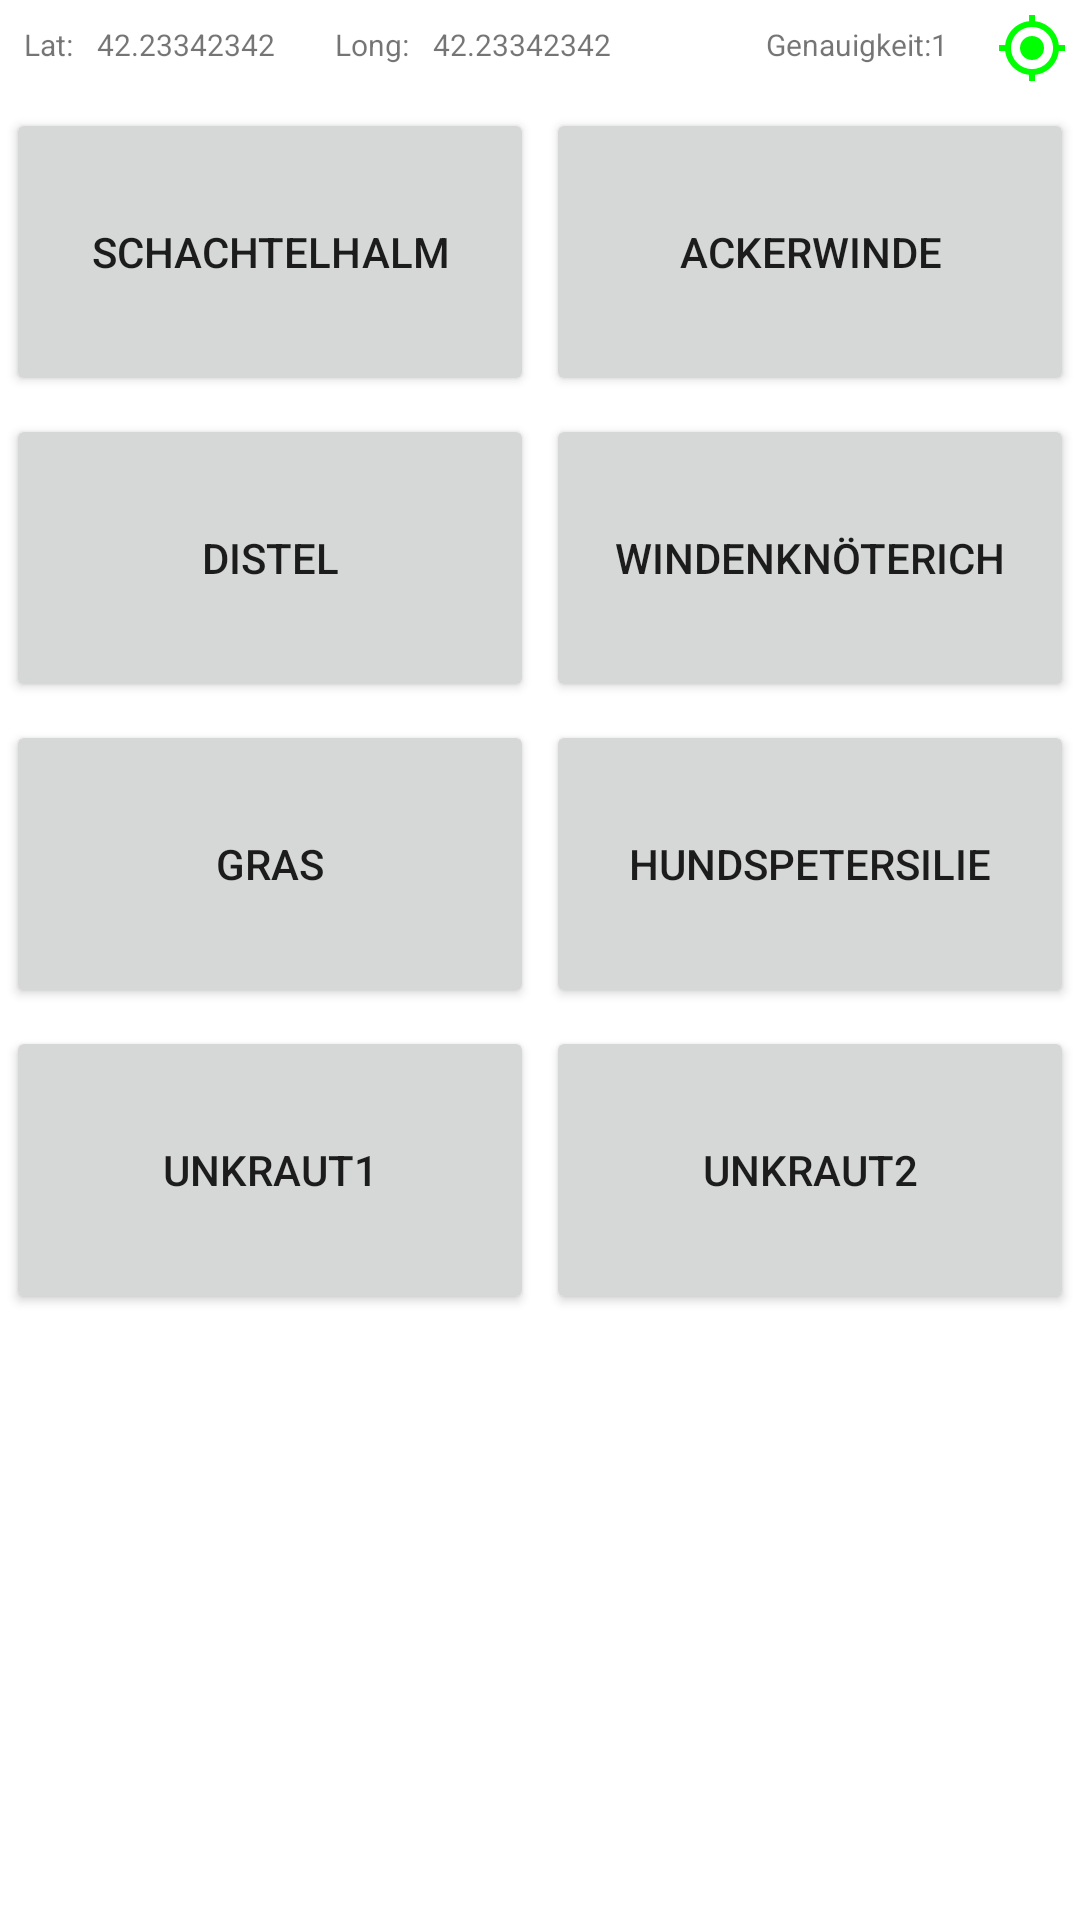

Screen size 1080px×1920px. Icon name, then its center in pixels as (x=x, y=y):
location: (x=1032, y=48)
